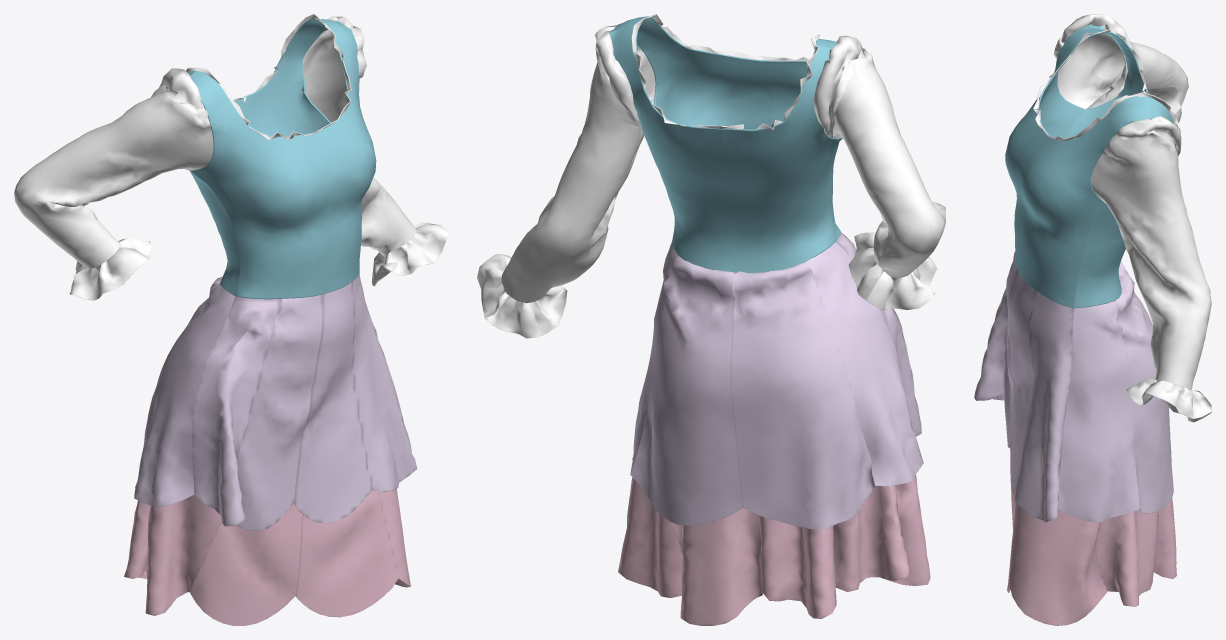
File: fashion show 3 clothes.fbx
The picture shows the model from 3 angles, left to right: view 1: azimuth 30°, elevation 25°; view 2: azimuth 150°, elevation 25°; view 3: azimuth 270°, elevation 25°; orthographic projection. The views are drawn at different scales.
Parts seen in each view (by area): view 1: fashion show 3 clothes; view 2: fashion show 3 clothes; view 3: fashion show 3 clothes.
Boxes of the visible parts, left/top/right/bottom form: fashion show 3 clothes: left=14, top=14, right=448, bottom=625; fashion show 3 clothes: left=477, top=14, right=945, bottom=625; fashion show 3 clothes: left=974, top=14, right=1211, bottom=625.
Bounding box in the file's own units: 76.74 × 93.95 × 38.71.
